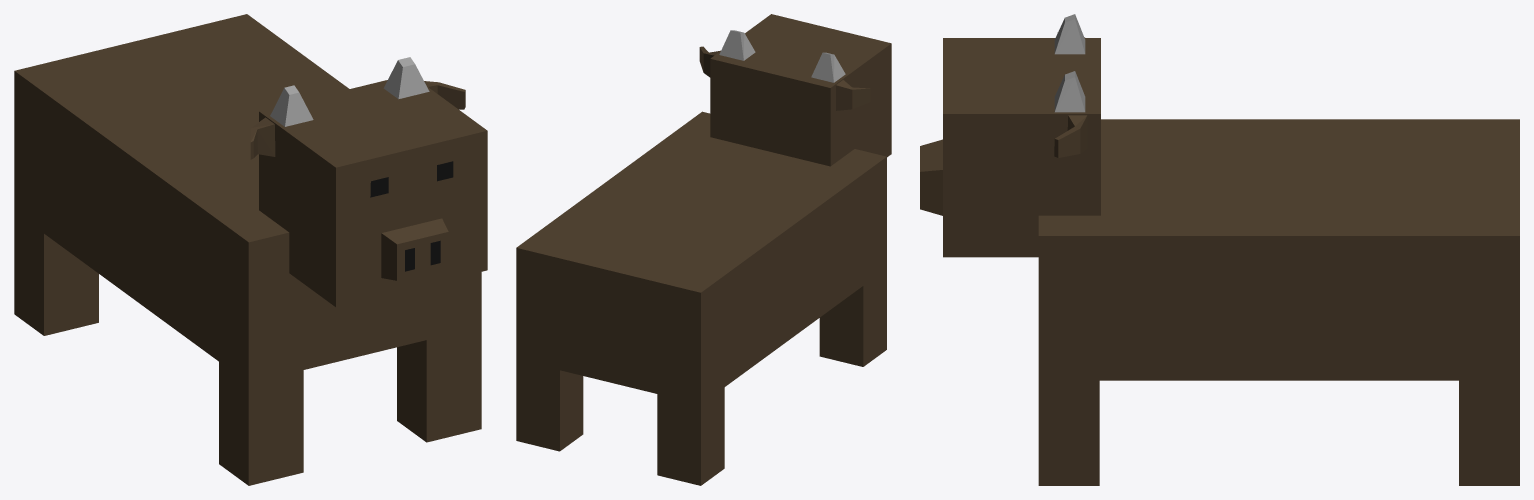
File: cre_001.FBX
3 renders of one model, left to right at view 1: azimuth 30°, elevation 25°; view 2: azimuth 150°, elevation 25°; view 3: azimuth 270°, elevation 25°, orthographic. The views are drawn at different scales.
Visible parts, largest first — view 1: cowB; view 2: cowB; view 3: cowB.
Part boxes in pixels (left/top/right/bottom): cowB: left=14, top=14, right=487, bottom=485; cowB: left=516, top=14, right=891, bottom=485; cowB: left=920, top=14, right=1519, bottom=485.
Size of the model in its own units: 5.9 by 9.02 by 12.84.
